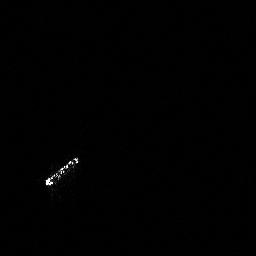ship: (40, 151, 83, 190)
